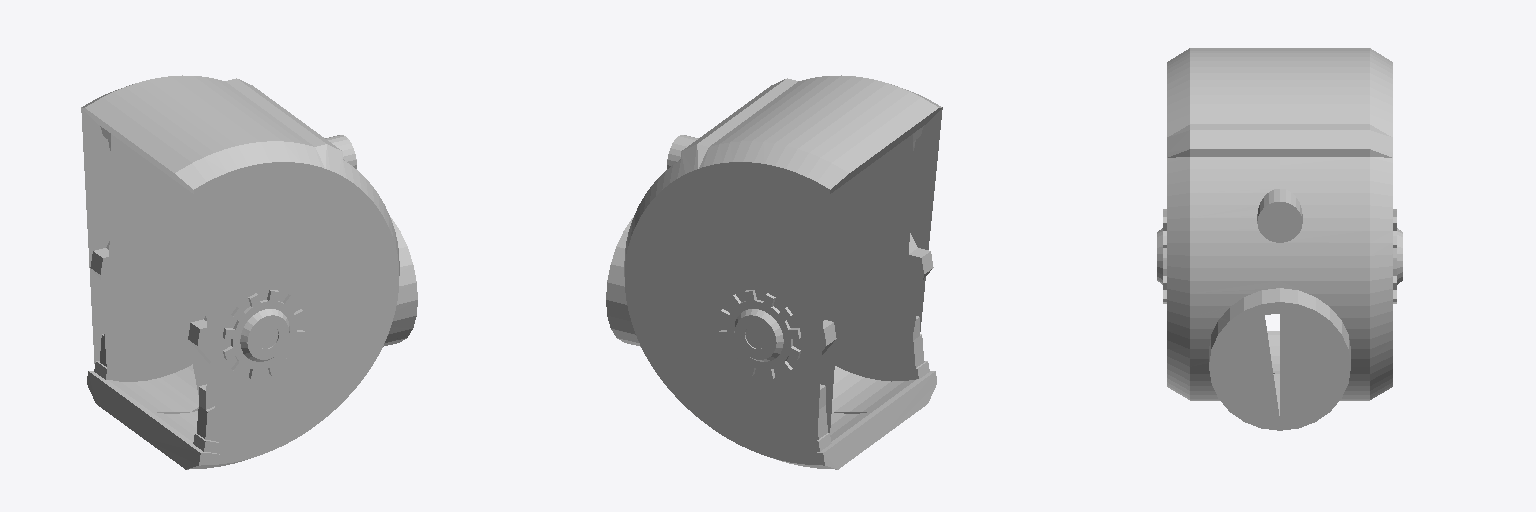
File: gladios_plan.obj
3 renders of one model, left to right at view 1: azimuth 30°, elevation 25°; view 2: azimuth 150°, elevation 25°; view 3: azimuth 270°, elevation 25°, orthographic.
Parts seen in each view (by area): view 1: Mesh1 Model; view 2: Mesh1 Model; view 3: Mesh1 Model.
Boxes of the visible parts, box(x1,y1,x2,y2) form: Mesh1 Model: box(81, 75, 417, 469); Mesh1 Model: box(606, 75, 942, 469); Mesh1 Model: box(1157, 48, 1402, 430).
Bounding box in the file's own units: 45.03 × 53.93 × 38.